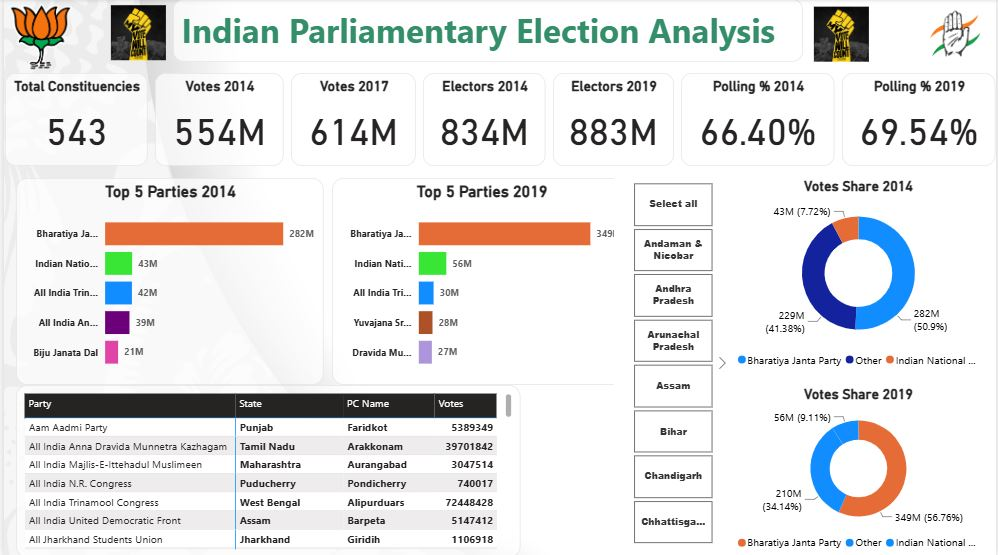

The page's visual inventory and layout, read from the dashboard file:
{"tool":"powerbi","page":{"name":"Total","canvas":[1280,720],"ordinal":0},"visuals":[{"type":"card","title":"Total Constituencies","fields":{"Values":["india_election_2014.Total Contituencies"]},"box":[1.4,95.6,184.1,119.9],"z":0},{"type":"card","title":"Electors 2019","fields":{"Values":["india_election_2019.Electors_2019"]},"box":[708.7,95.6,155.5,119.9],"z":1000},{"type":"card","title":"Votes 2014","fields":{"Values":["india_election_2014.Votes_2014"]},"box":[195,95.6,165.5,119.9],"z":2000},{"type":"card","title":"Votes 2017","fields":{"Values":["india_election_2019.Votes_2019"]},"box":[370.1,95.6,161.2,119.9],"z":3000},{"type":"card","title":"Electors 2014","fields":{"Values":["india_election_2014.Electors_2014"]},"box":[540.8,95.6,158.4,119.9],"z":4000},{"type":"textbox","box":[218.3,0,813.4,81.3],"z":5000},{"type":"card","title":"Polling % 2014","fields":{"Values":["india_election_2014.Polling % 2014"]},"box":[873.8,95.6,198.4,119.9],"z":6000},{"type":"card","title":"Polling % 2019","fields":{"Values":["india_election_2019.Polling % 2019"]},"box":[1081.6,95.6,198.4,119.9],"z":7000},{"type":"barChart","title":"Top 5 Parties 2014","fields":{"Category":["india_election_2014.Party"],"Y":["Sum(india_election_2014.Votes)"]},"box":[15.7,231.2,396.7,266.8],"z":8000},{"type":"barChart","title":"Top 5 Parties 2019","fields":{"Category":["india_election_2019.Party"],"Y":["Sum(india_election_2019.Votes)"]},"box":[423.8,231.2,385.3,266.8],"z":9000},{"type":"pivotTable","fields":{"Rows":["Total_Merged.Party"],"Values":["Min(Total_Merged.State)","Min(Total_Merged.PC Name)","Sum(Total_Merged.Votes)"]},"box":[15.7,498,650.7,222.6],"z":10000},{"type":"donutChart","title":"Votes Share 2014","fields":{"Category":["india_election_2014.Party Category"],"Y":["india_election_2014.Votes_2014"]},"box":[938.3,231,328.8,253.7],"z":11000},{"type":"donutChart","title":"Votes Share 2019","fields":{"Category":["india_election_2019.Party Category"],"Y":["india_election_2019.Votes_2019"]},"box":[938.3,498.9,328.8,221.1],"z":12000},{"type":"slicer","fields":{"Values":["Total_Merged.State"]},"box":[787.7,231.2,151.3,478],"z":13000},{"type":"image","box":[132.7,0,81.3,87],"z":14000},{"type":"image","box":[1040.3,4.3,81.3,82.8],"z":15000},{"type":"image","box":[0,0,94.2,95.6],"z":17000},{"type":"image","box":[1174.4,4.3,105.6,82.8],"z":18000}]}

Visuals, with their boxes in screenshot pixels (x1, y1, x2, y2), scaled from the page's 1280x720 canvas onto the 998x555 screenshot:
"Total Constituencies" card: 1, 74, 145, 166
"Electors 2019" card: 553, 74, 674, 166
"Votes 2014" card: 152, 74, 281, 166
"Votes 2017" card: 289, 74, 414, 166
"Electors 2014" card: 422, 74, 545, 166
textbox: 170, 0, 804, 63
"Polling % 2014" card: 681, 74, 836, 166
"Polling % 2019" card: 843, 74, 997, 166
"Top 5 Parties 2014" barChart: 12, 178, 322, 384
"Top 5 Parties 2019" barChart: 330, 178, 631, 384
pivotTable - Total_Merged.Party x Min(Total_Merged.State): 12, 384, 520, 554
"Votes Share 2014" donutChart: 732, 178, 988, 374
"Votes Share 2019" donutChart: 732, 385, 988, 554
slicer - Total_Merged.State: 614, 178, 732, 547
image: 103, 0, 167, 67
image: 811, 3, 874, 67
image: 0, 0, 73, 74
image: 916, 3, 997, 67
